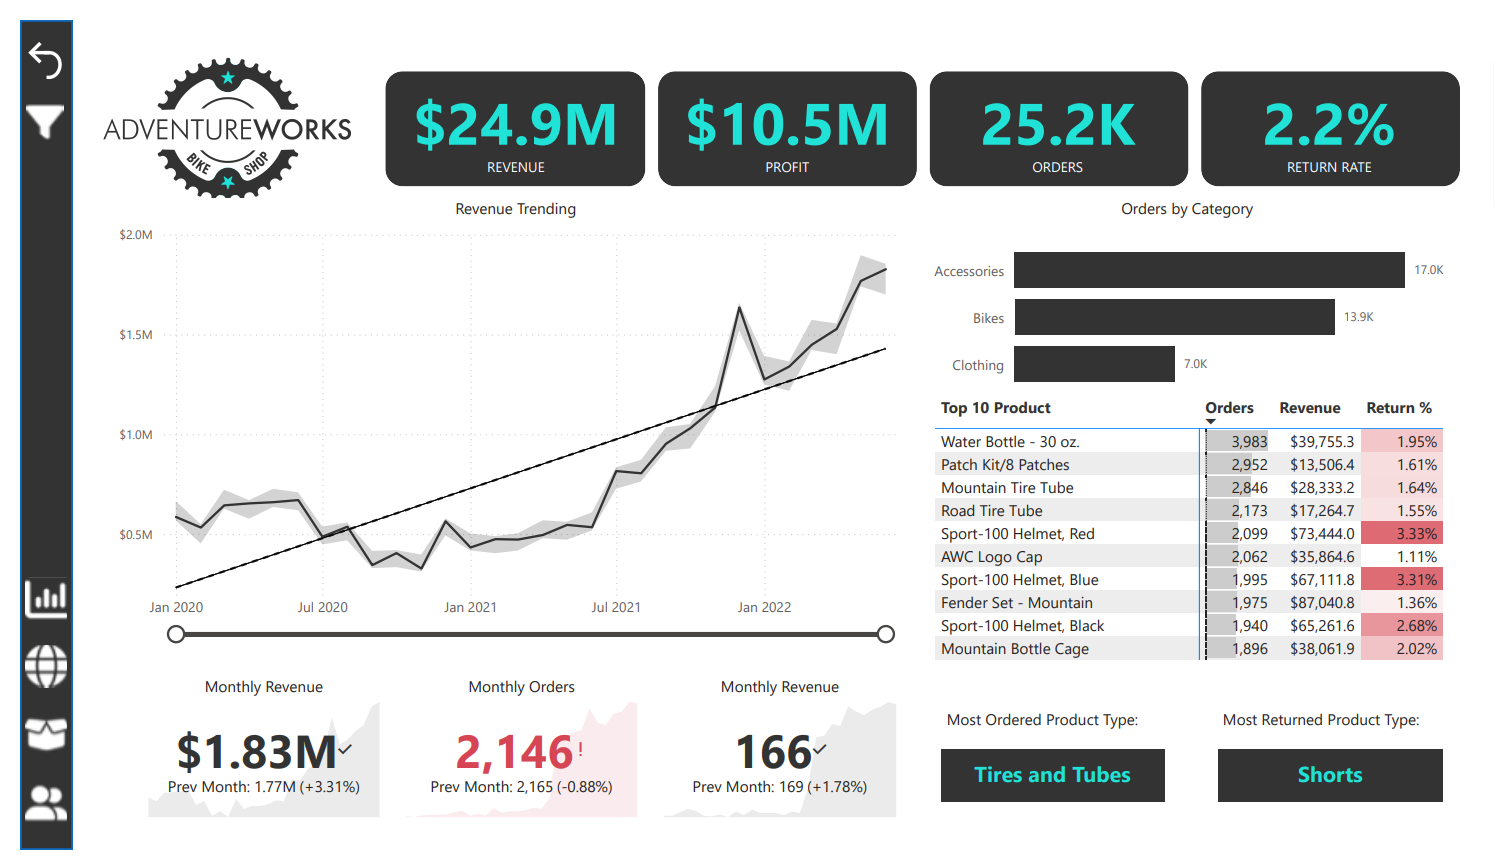

The dashboard page shown, as its layout file describes it:
{"tool":"powerbi","page":{"name":"Exce Dashboard","canvas":[1280,720],"ordinal":0},"visuals":[{"type":"image","title":"AW Logo","box":[44.3,12.9,272.9,162.9],"z":0},{"type":"card","fields":{"Values":["Measure Table.Total Revenue"]},"box":[294.3,12.9,272.9,162.9],"z":0,"group":"g2"},{"type":"group","id":"g1","title":"KPI Backgrounds","box":[317.2,44.3,933.5,100],"z":0,"group":"g3"},{"type":"shape","box":[317.2,44.3,225.7,100],"z":0,"group":"g1"},{"type":"actionButton","box":[0,477.1,44.3,50],"z":0,"group":"g4"},{"type":"shape","title":"Left Nav Background","box":[0,0,45,720],"z":1000},{"type":"group","id":"g2","title":"KPI Values","box":[294.3,12.9,980,162.9],"z":1000,"group":"g3"},{"type":"card","fields":{"Values":["Measure Table.Total Profit"]},"box":[530,12.9,272.9,162.9],"z":1000,"group":"g2"},{"type":"shape","box":[1025.7,44.3,225,100],"z":1000,"group":"g1"},{"type":"actionButton","box":[0,595.9,44.3,50],"z":1000,"group":"g4"},{"type":"group","id":"g3","title":"KPIs","box":[294.3,12.9,980,162.9],"z":2000},{"type":"card","fields":{"Values":["Measure Table.Total Orders"]},"box":[765.7,12.9,272.9,162.9],"z":2000,"group":"g2"},{"type":"shape","box":[553.9,44.3,225.7,100],"z":2000,"group":"g1"},{"type":"actionButton","box":[0,655.2,44.3,50],"z":2000,"group":"g4"},{"type":"card","fields":{"Values":["Measure Table.Return Rate"]},"box":[1001.4,12.9,272.9,162.9],"z":3000,"group":"g2"},{"type":"shape","box":[790.5,44.3,224.3,100],"z":3000,"group":"g1"},{"type":"lineChart","title":"Revenue Trending","fields":{"Y":["Measure Table.Total Revenue"],"Category":["Calendar Lookup.Date.Variation.Date Hierarchy.Year","Calendar Lookup.Date.Variation.Date Hierarchy.Quarter","Calendar Lookup.Date.Variation.Date Hierarchy.Month"]},"box":[80,154.3,701.4,390],"z":3000},{"type":"actionButton","box":[0,536.5,44.3,50],"z":3000,"group":"g4"},{"type":"kpi","title":"Monthly Revenue","fields":{"Indicator":["Measure Table.Total Revenue"],"TrendLine":["Calendar Lookup.Start of Month"],"Goal":["Measure Table.Previous Month Revenue"]},"box":[105.7,568.6,211.4,128.6],"z":4000},{"type":"kpi","title":"Monthly Orders","fields":{"TrendLine":["Calendar Lookup.Start of Month"],"Indicator":["Measure Table.Total Orders"],"Goal":["Measure Table.Previous Month Orders"]},"box":[330,568.6,211.4,128.6],"z":5000},{"type":"kpi","title":"Monthly Revenue","fields":{"TrendLine":["Calendar Lookup.Start of Month"],"Indicator":["Measure Table.Total Returns"],"Goal":["Measure Table.Previous Month Returns"]},"box":[554.3,568.6,211.4,128.6],"z":6000},{"type":"clusteredBarChart","title":"Orders by Category","fields":{"Category":["Product Categories Lookup.CategoryName"],"Y":["Measure Table.Total Orders"]},"box":[784.3,154.3,460,182.9],"z":7000},{"type":"pivotTable","fields":{"Rows":["Product Lookup.ProductName"],"Values":["Measure Table.Total Orders","Measure Table.Total Revenue","Measure Table.Return Rate"]},"box":[790,321.4,461.4,260],"z":8000},{"type":"card","fields":{"Values":["Min(Product Subcategories Lookup.SubcategoryName)"]},"box":[800,632.9,194.3,45.7],"z":9000},{"type":"textbox","box":[800,592.9,185.7,28.6],"z":10000},{"type":"card","fields":{"Values":["Min(Product Subcategories Lookup.SubcategoryName)"]},"box":[1041.4,632.9,194.3,45.7],"z":11000},{"type":"textbox","box":[1040,593.3,204.3,28.6],"z":12000},{"type":"actionButton","box":[0,12.5,45,43.8],"z":13000},{"type":"group","id":"g4","title":"Navigation Button","box":[0,477.1,44.3,228.1],"z":14000},{"type":"actionButton","box":[0.8,68.3,44.2,40],"z":15000}]}

Visuals, with their boxes on the page's 1280x720 design canvas (x1, y1, x2, y2). These are canvas units, not pixel positions in the 1510x867 screenshot, which may show the page scaled, cropped or inside an application window:
"AW Logo" image: (44,13,317,176)
card - Measure Table.Total Revenue: (294,13,567,176)
"KPI Backgrounds" group: (317,44,1251,144)
shape: (317,44,543,144)
actionButton: (0,477,44,527)
"Left Nav Background" shape: (0,0,45,720)
"KPI Values" group: (294,13,1274,176)
card - Measure Table.Total Profit: (530,13,803,176)
shape: (1026,44,1251,144)
actionButton: (0,596,44,646)
"KPIs" group: (294,13,1274,176)
card - Measure Table.Total Orders: (766,13,1039,176)
shape: (554,44,780,144)
actionButton: (0,655,44,705)
card - Measure Table.Return Rate: (1001,13,1274,176)
shape: (790,44,1015,144)
"Revenue Trending" lineChart: (80,154,781,544)
actionButton: (0,536,44,586)
"Monthly Revenue" kpi: (106,569,317,697)
"Monthly Orders" kpi: (330,569,541,697)
"Monthly Revenue" kpi: (554,569,766,697)
"Orders by Category" clusteredBarChart: (784,154,1244,337)
pivotTable - Product Lookup.ProductName x Measure Table.Total Orders: (790,321,1251,581)
card - Min(Product Subcategories Lookup.SubcategoryName): (800,633,994,679)
textbox: (800,593,986,622)
card - Min(Product Subcategories Lookup.SubcategoryName): (1041,633,1236,679)
textbox: (1040,593,1244,622)
actionButton: (0,12,45,56)
"Navigation Button" group: (0,477,44,705)
actionButton: (1,68,45,108)
